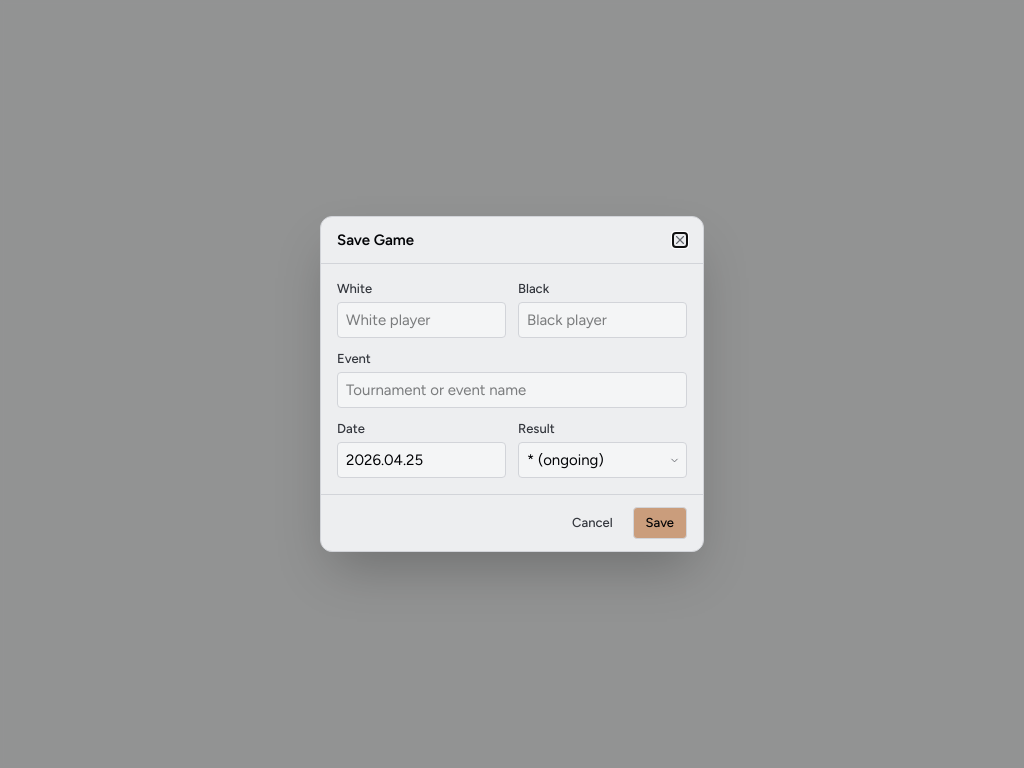
Test: SaveGameDialog › shows conflict prompt when a duplicate is found
Click the button "Save" at (660, 523), box top-left (633, 507), bottom-right (687, 539)
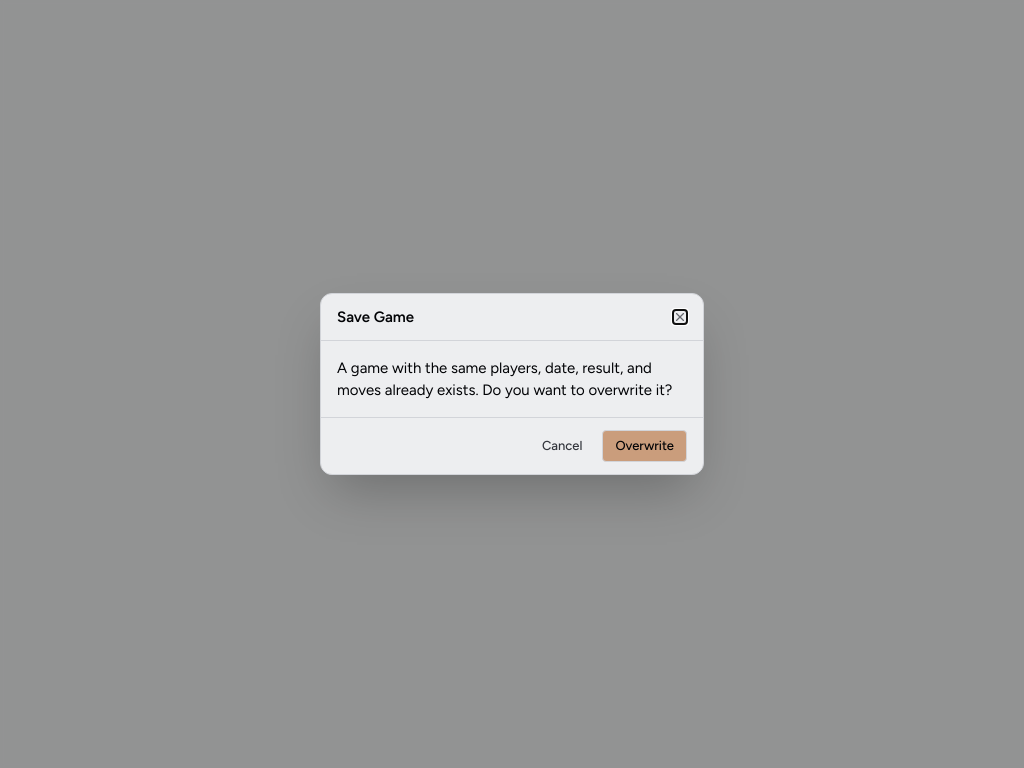
Expected: the text "already exists" is shown, top-left (337, 359), bottom-right (672, 399)
Expected: the button "Overwrite" is shown, top-left (602, 430), bottom-right (687, 462)
